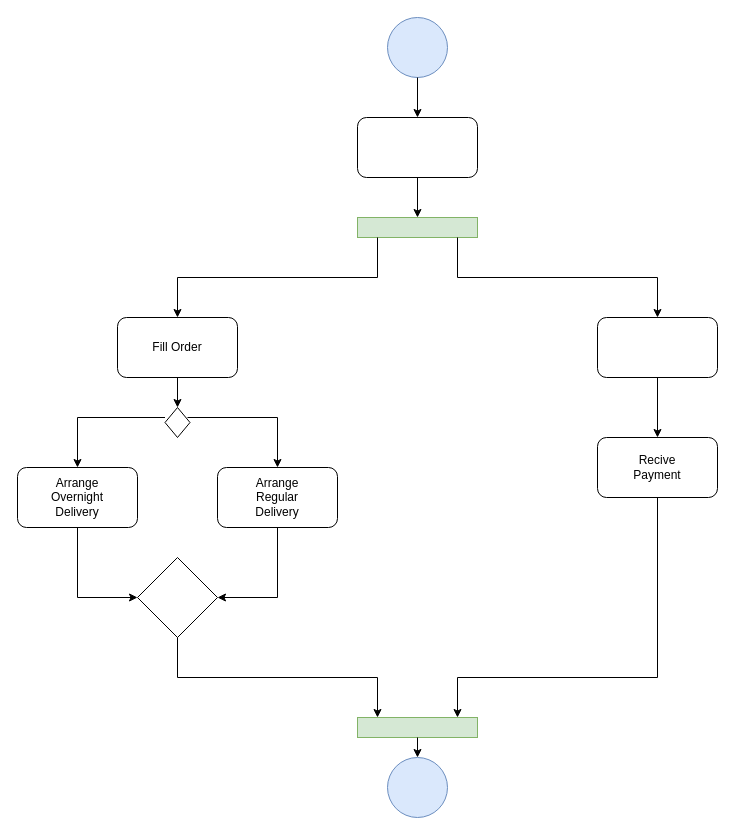
Image size: 735x835. Some labels were removed from this diagram. The centre of each missing label's shape, as x and y in pixels:
"Recive Order" belongs at pixel 417 147.
"Send Order" belongs at pixel 657 347.
